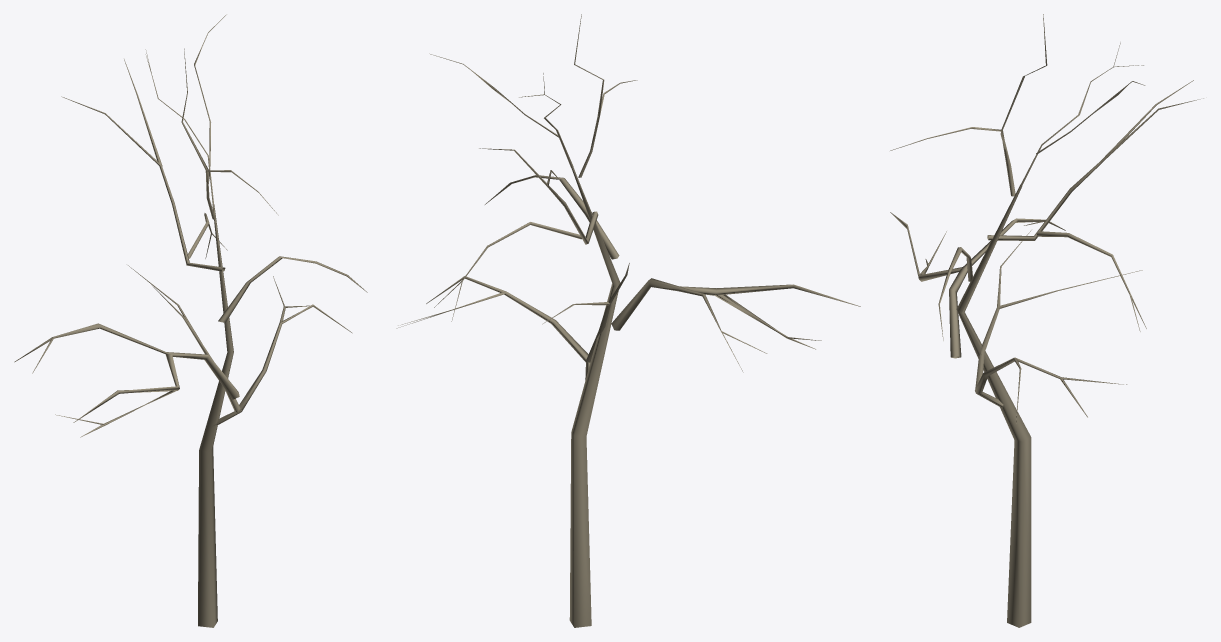
The model's file is StressedTrunk.fbx.
The picture shows the model from 3 angles, left to right: view 1: azimuth 30°, elevation 25°; view 2: azimuth 150°, elevation 25°; view 3: azimuth 270°, elevation 25°; orthographic projection. The views are drawn at different scales.
Parts seen in each view (by area): view 1: StressedTrunk; view 2: StressedTrunk; view 3: StressedTrunk.
Boxes of the visible parts, <box> form: StressedTrunk: <box>14,14,367,627</box>; StressedTrunk: <box>396,14,860,627</box>; StressedTrunk: <box>890,14,1203,627</box>.
Size of the model in its own units: 471 by 756 by 361.
